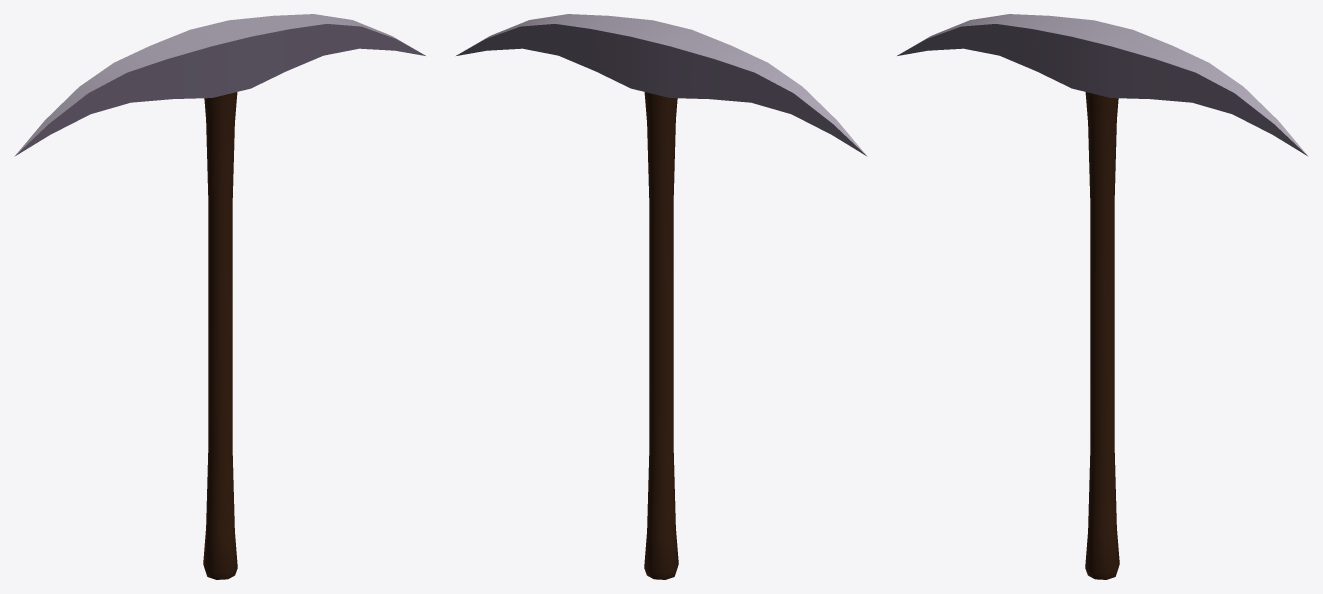
Rendered from VillagerPickaxe.fbx.
The picture shows the model from 3 angles, left to right: view 1: azimuth 30°, elevation 25°; view 2: azimuth 150°, elevation 25°; view 3: azimuth 330°, elevation 25°; orthographic projection.
Parts seen in each view (by area): view 1: VillagerPickaxe; view 2: VillagerPickaxe; view 3: VillagerPickaxe.
Boxes of the visible parts, x1,y1,x2,y2 form: VillagerPickaxe: (14, 14, 425, 579); VillagerPickaxe: (456, 14, 867, 579); VillagerPickaxe: (897, 14, 1308, 579).
Size of the model in its own units: 81.87 by 102 by 7.7.
